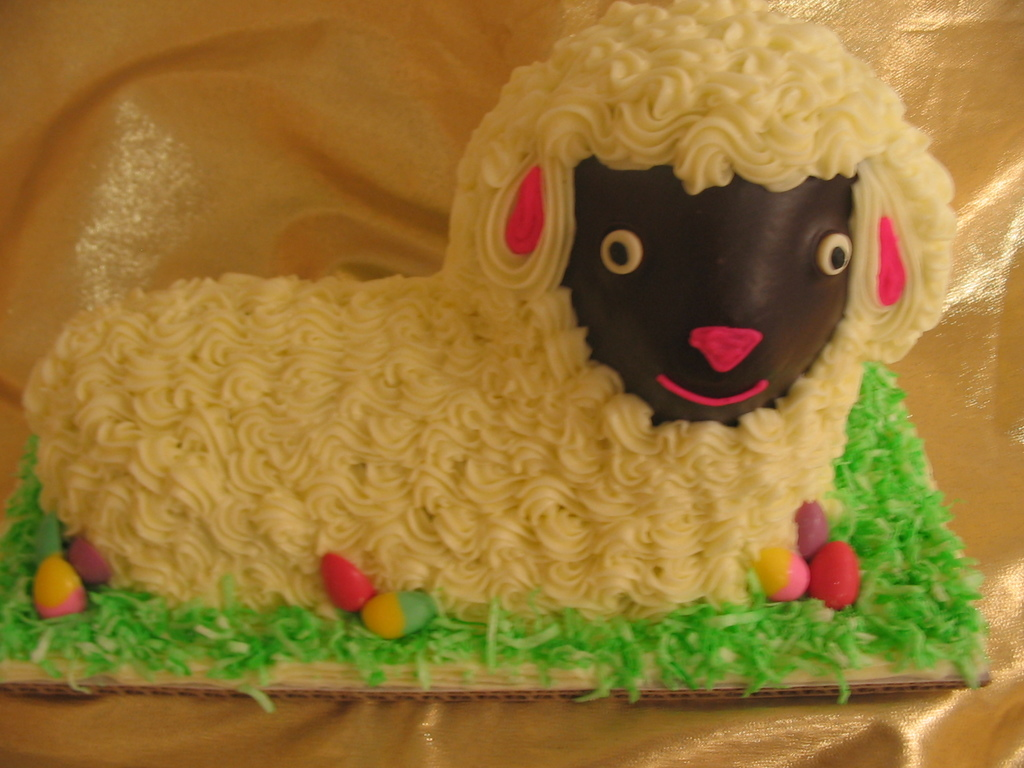cake: (0, 0, 999, 688)
